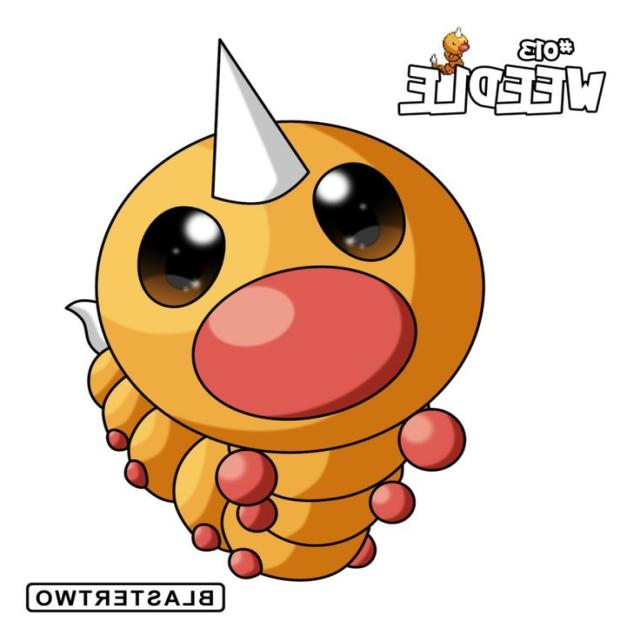Weedle: (89, 55, 482, 580)
